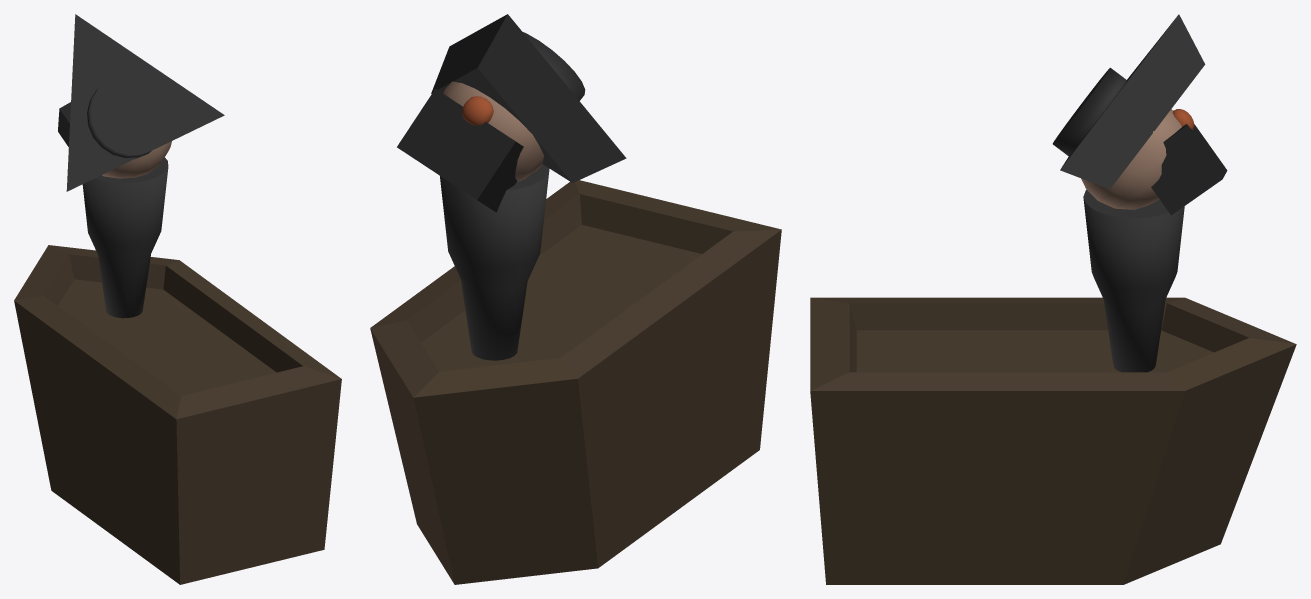
The model's file is PiratePlaceholder.fbx.
The picture shows the model from 3 angles, left to right: view 1: azimuth 30°, elevation 25°; view 2: azimuth 150°, elevation 25°; view 3: azimuth 270°, elevation 25°; orthographic projection. The views are drawn at different scales.
Parts seen in each view (by area): view 1: Cube.001, Cylinder.001, Cylinder.000; view 2: Cube.001, Cylinder.001, Cylinder.000; view 3: Cube.001, Cylinder.001, Cylinder.000.
Boxes of the visible parts, left/top/right/bottom form: Cube.001: left=14, top=245, right=341, bottom=584; Cylinder.001: left=58, top=14, right=224, bottom=191; Cylinder.000: left=82, top=157, right=168, bottom=318; Cube.001: left=370, top=180, right=781, bottom=584; Cylinder.001: left=397, top=14, right=626, bottom=212; Cylinder.000: left=440, top=164, right=549, bottom=360; Cube.001: left=810, top=297, right=1296, bottom=584; Cylinder.001: left=1052, top=14, right=1227, bottom=215; Cylinder.000: left=1083, top=189, right=1184, bottom=372.
Bounding box in the file's own units: 369 × 955 × 815.
